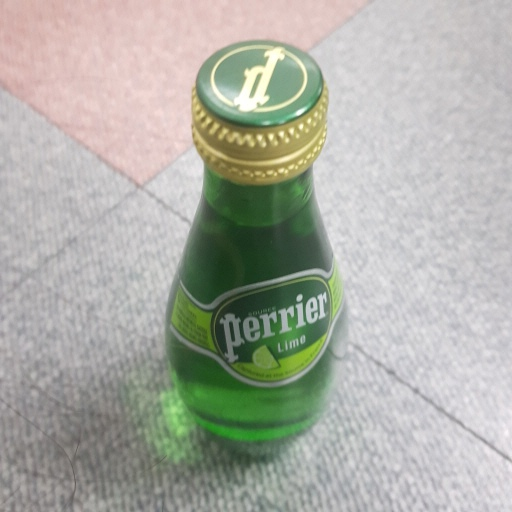Glass_4: (161, 41, 356, 455)
